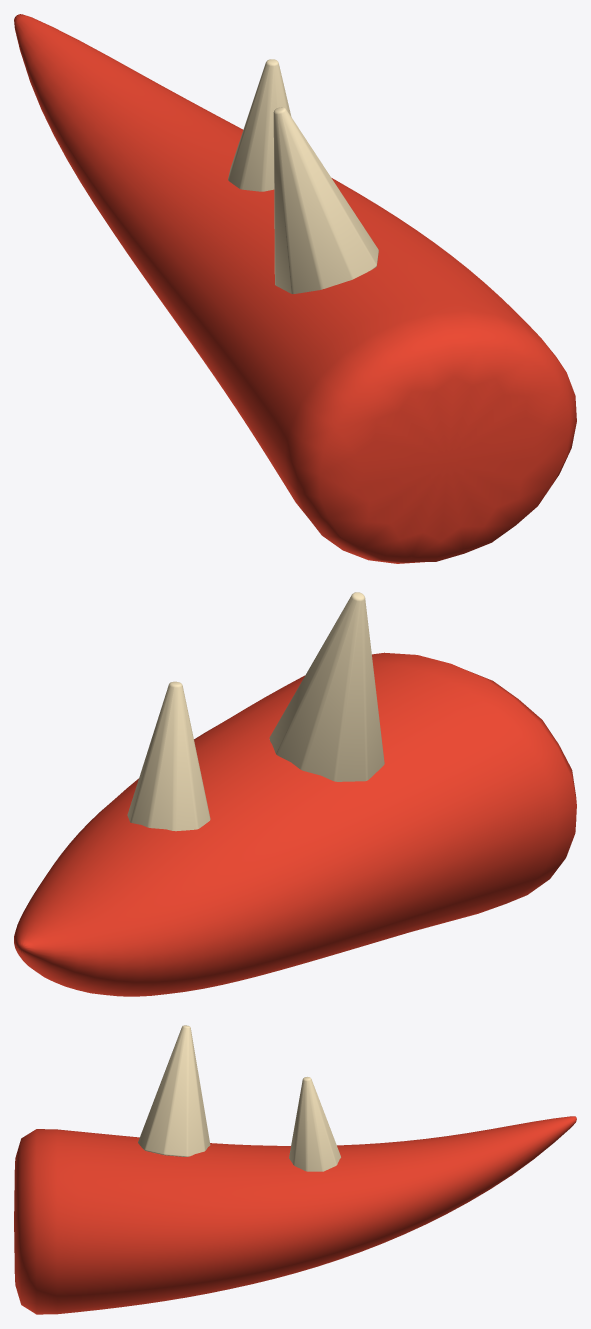
Rendered from Tail_Mid.fbx.
3 views of the same model, one above another, from view 1: azimuth 30°, elevation 25°; view 2: azimuth 150°, elevation 25°; view 3: azimuth 270°, elevation 25° (orthographic). The views are drawn at different scales.
Parts seen in each view (by area): view 1: Tail_Mid; view 2: Tail_Mid; view 3: Tail_Mid.
Boxes of the visible parts, bbox=[...] form: Tail_Mid: bbox=[14, 14, 576, 563]; Tail_Mid: bbox=[14, 592, 576, 996]; Tail_Mid: bbox=[14, 1025, 576, 1314].
Size of the model in its own units: 133 by 165 by 325.
